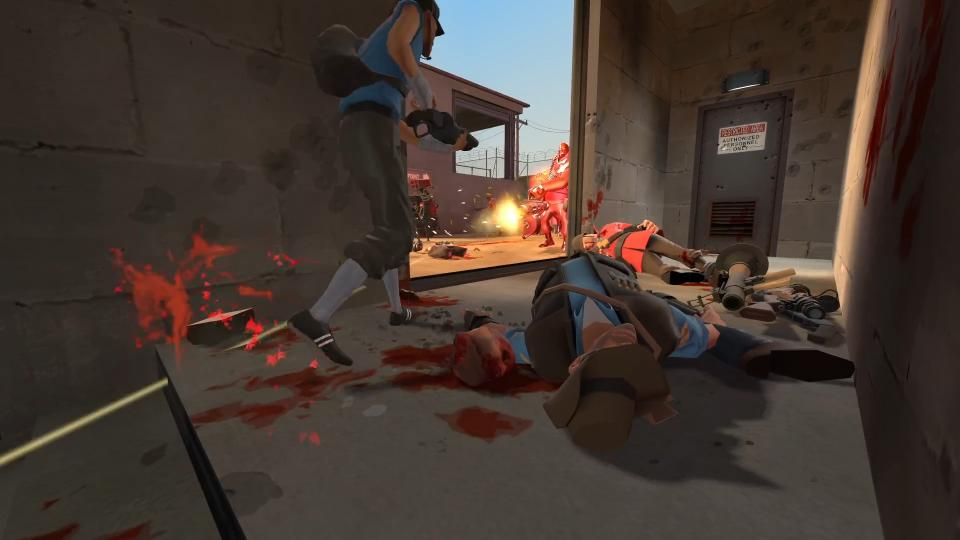Enemy: (285, 0, 478, 360), (465, 253, 724, 444), (573, 220, 717, 283), (516, 143, 570, 252)
